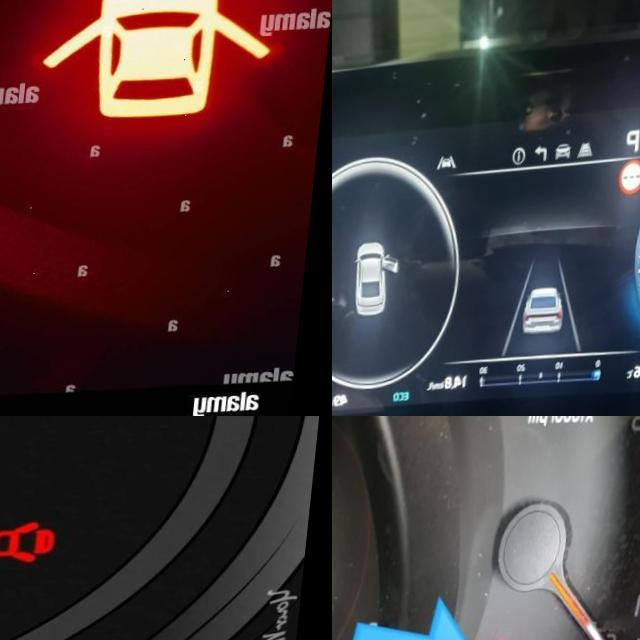LaneCenteringOff: (441, 156, 463, 172)
